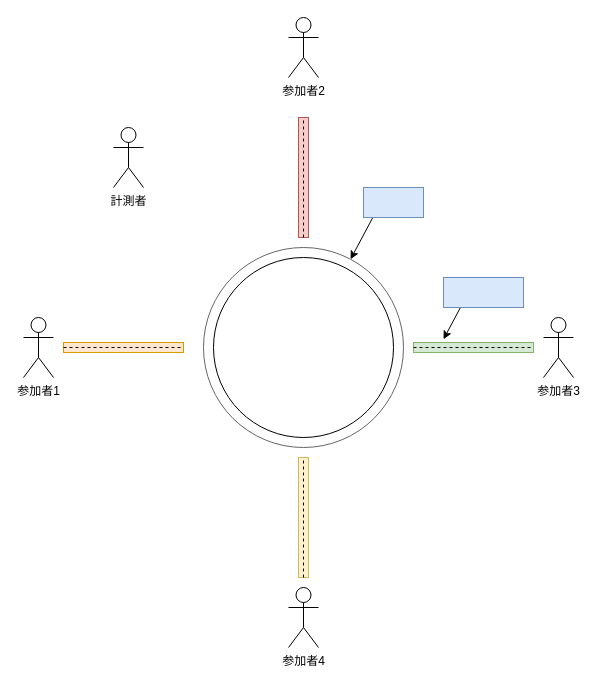
The diagram is 597 pixels wide and 686 high, and some of its shapes have lost their labels. Each missing label, with the centre of its shape:
カプラ: point (393, 202)
六角レンチ: point (483, 292)
